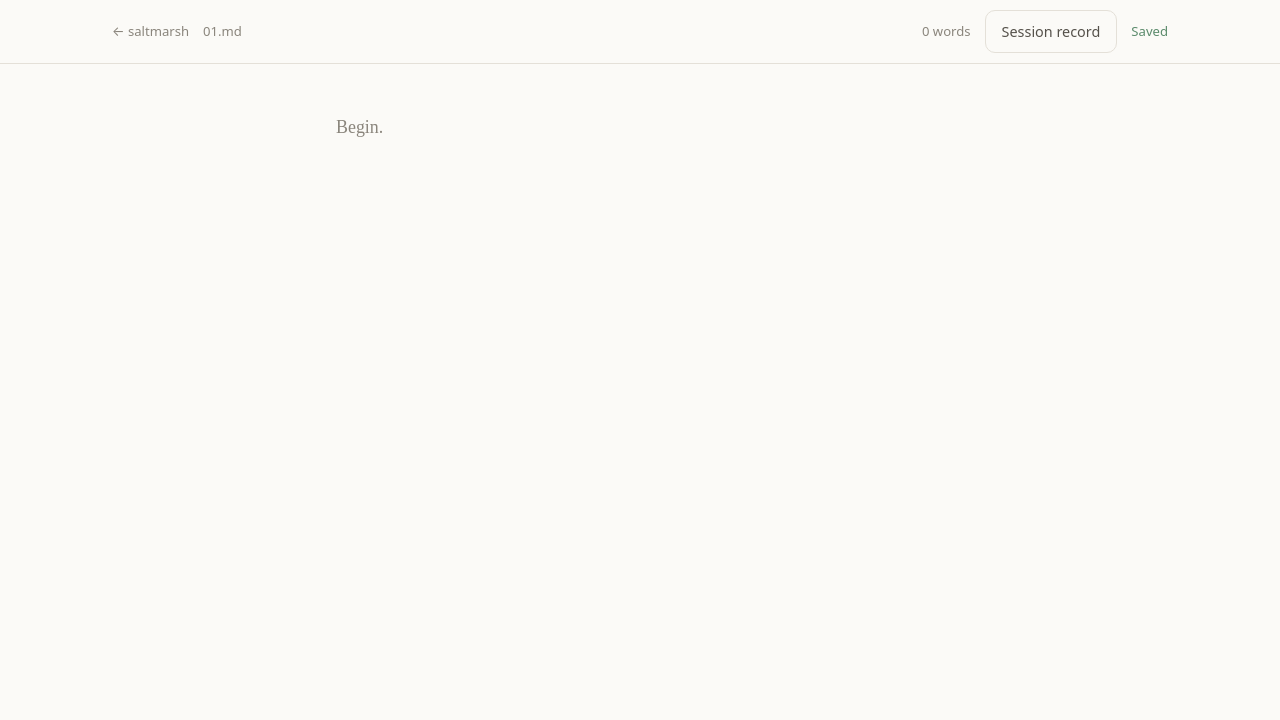
Test: saving › reports the commit and how it was recorded
The width and height of the screenshot is (1280, 720).
Type "A new sentence." into the text box. click: (640, 368)
box: [336,112,944,624]
Wait 3000 ms
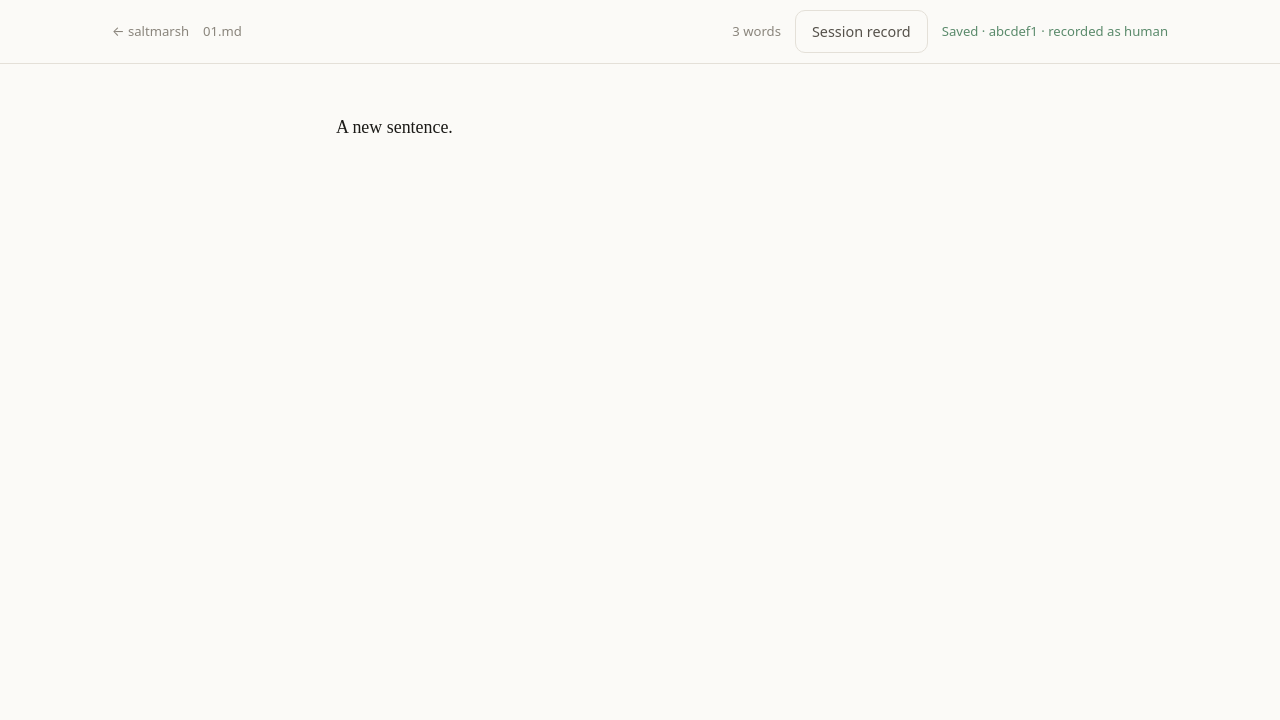
Check: the text "Saved · abcdef1 · recorded as human" is shown, box [942,21,1168,42]
